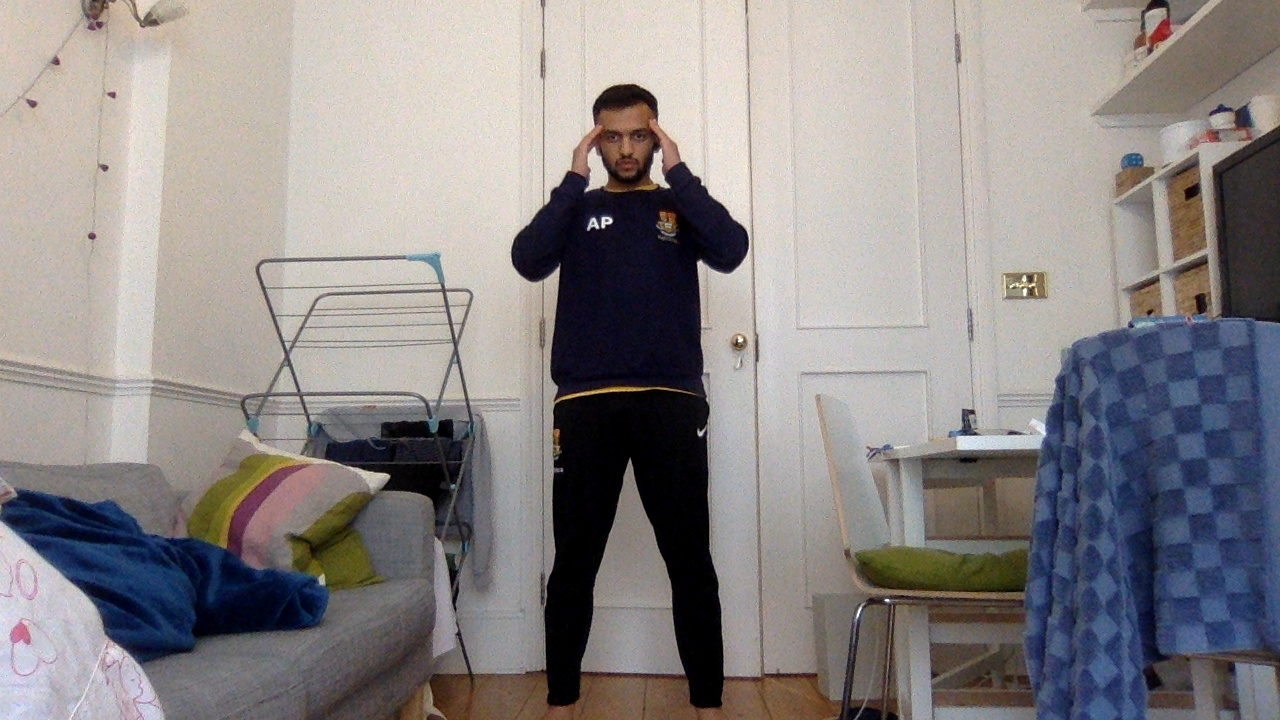hand: (563, 123, 604, 186), (646, 116, 684, 178)
